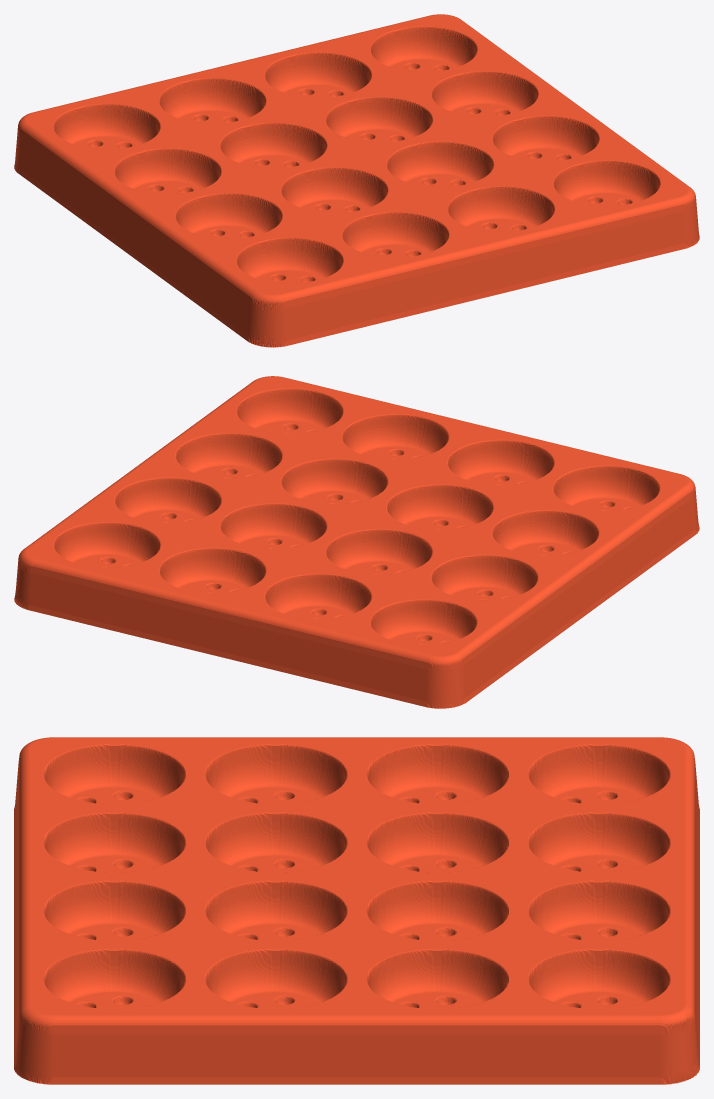
The model's file is mold.glb.
3 renders of one model, top to bottom at view 1: azimuth 30°, elevation 25°; view 2: azimuth 150°, elevation 25°; view 3: azimuth 270°, elevation 25°, orthographic. The views are drawn at different scales.
Visible parts, largest first — view 1: geometry_0; view 2: geometry_0; view 3: geometry_0.
Boxes of the visible parts, box(x1,y1,x2,y2) form: geometry_0: box(14, 14, 699, 347); geometry_0: box(14, 376, 699, 708); geometry_0: box(14, 737, 699, 1084).
Bounding box in the file's own units: 0.1569 × 0.0159 × 0.1569.
